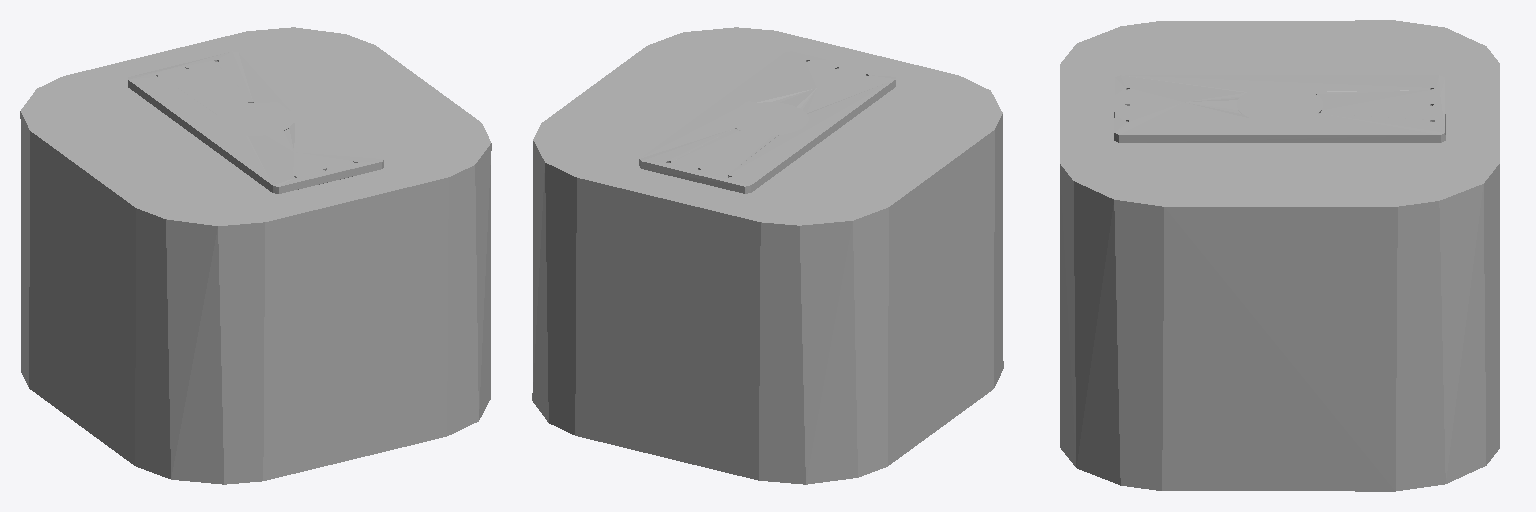
The robot description file, URDF, robot "gen3_robotiq_2f_85":
<?xml version="1.0" encoding="utf-8"?>
<!-- =================================================================================== -->
<!-- |    This document was autogenerated by xacro from gen3_robotiq_2f_85.xacro       | -->
<!-- |    EDITING THIS FILE BY HAND IS NOT RECOMMENDED                                 | -->
<!-- =================================================================================== -->
<robot name="gen3_robotiq_2f_85">
  <material name="Grey">
    <color rgba="0.75294 0.75294 0.75294 1"/>
  </material>
  <material name="DarkGrey">
    <color rgba="0.1 0.1 0.1 1"/>
  </material>
  <material name="LightGrey">
    <color rgba="0.9 0.9 0.9 1"/>
  </material>
  <material name="Blue">
    <color rgba="0.792156862745098 0.819607843137255 0.933333333333333 1"/>
  </material>
  <material name="Red">
    <color rgba="0.9 0.0 0.0 1"/>
  </material>
  <!-- Run the macros -->
  <link name="base_link">
    <inertial>
      <origin rpy="0 0 0" xyz="0 0 0.085"/>
      <mass value="1000.0"/>
      <inertia ixx="0.004622" ixy="9E-06" ixz="6E-05" iyy="0.004495" iyz="9E-06" izz="0.002079"/>
    </inertial>
    <visual>
      <origin rpy="0 0 0" xyz="0 0 0"/>
      <geometry>
        <mesh filename="meshes/base/mobile_base.obj"/>
      </geometry>
      <material name="Grey">
        <color rgba="0.75294 0.75294 0.75294 1"/>
      </material>
    </visual>
    <collision>
      <origin rpy="0 0 0" xyz="0 0 0"/>
      <geometry>
        <mesh filename="meshes/base/mobile_base.obj"/>
      </geometry>
    </collision>
  </link>
</robot>

--- Facts derived from the render (not from the file) ---
Views: 3 orthographic renders of the robot side by side, from view 1: azimuth 30°, elevation 25°; view 2: azimuth 150°, elevation 25°; view 3: azimuth 270°, elevation 25°.
Model gen3_robotiq_2f_85 with 1 links and 0 joints (none), rooted at base_link, posed every joint at zero.
Visible links, largest first — view 1: base_link; view 2: base_link; view 3: base_link.
Boxes of the visible links, x1,y1,x2,y2 form: base_link: (20,27,491,484); base_link: (532,27,1003,484); base_link: (1060,20,1499,491).
Size in the robot's own frame: 0.4638 by 0.4638 by 0.3404 metres.
Meshes: 1 distinct files referenced, 1 mesh visuals loaded (1 OBJ).